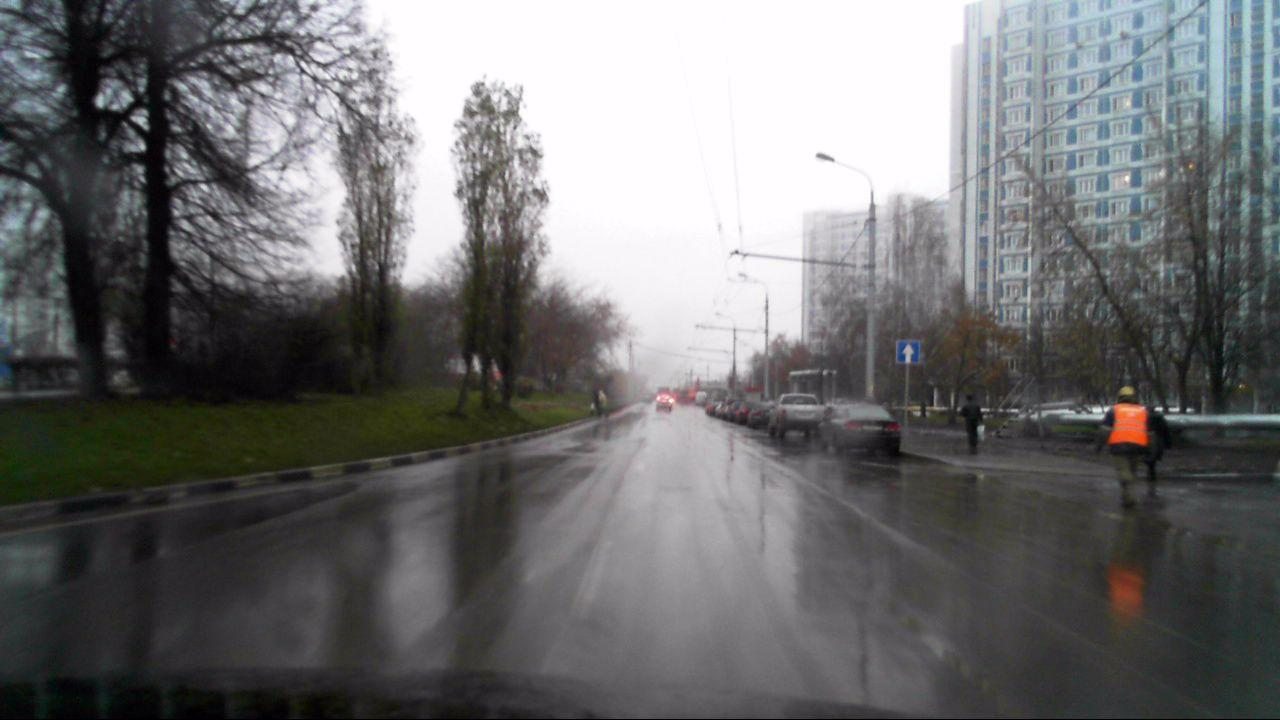5_5: (896, 339, 920, 364)
